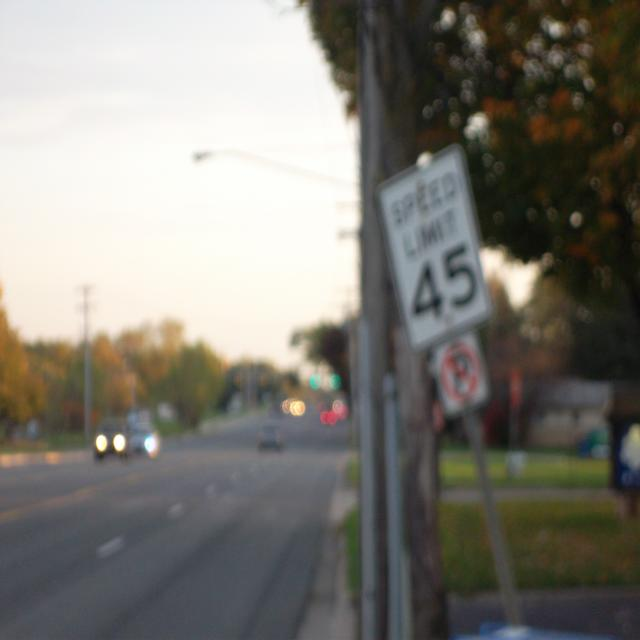regulatory: (378, 144, 493, 351)
stop: (506, 358, 530, 415)
